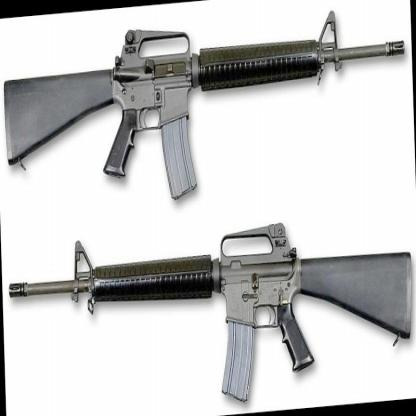rifle: (0, 0, 410, 212), (7, 211, 415, 416)
